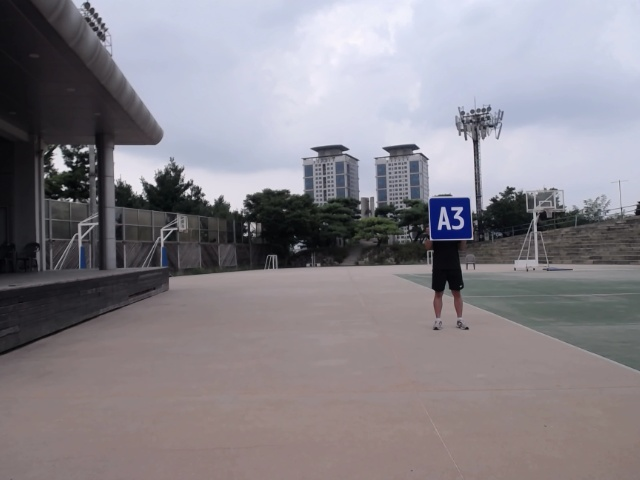delivery_a3: (428, 197, 473, 240)
